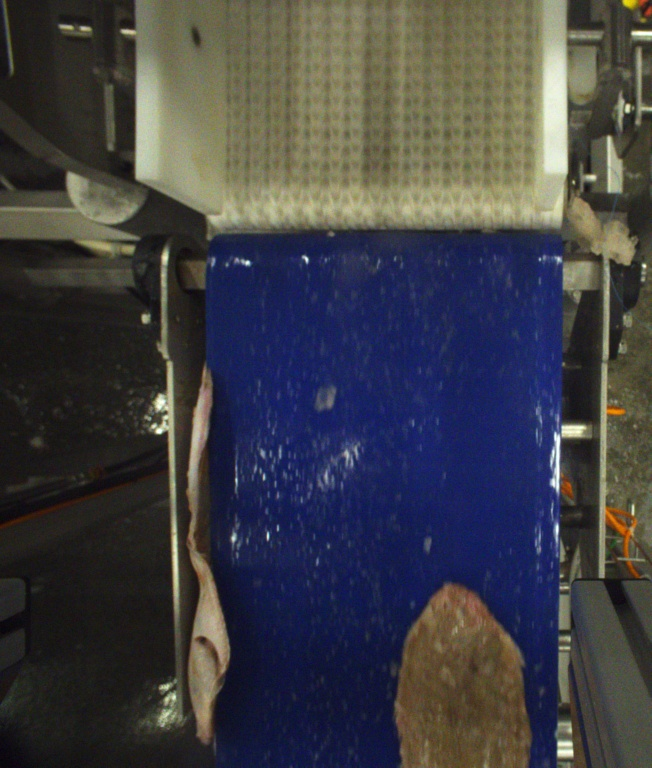SOL: (390, 583, 540, 768)
